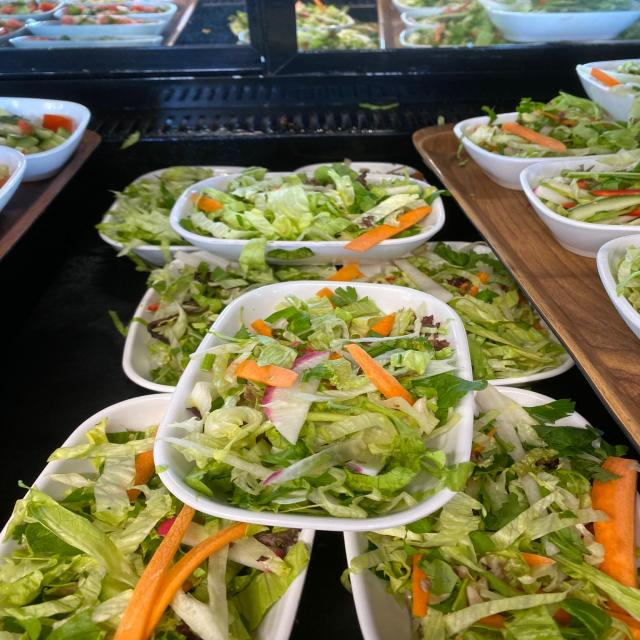yan_yemek: (154, 280, 480, 529)
